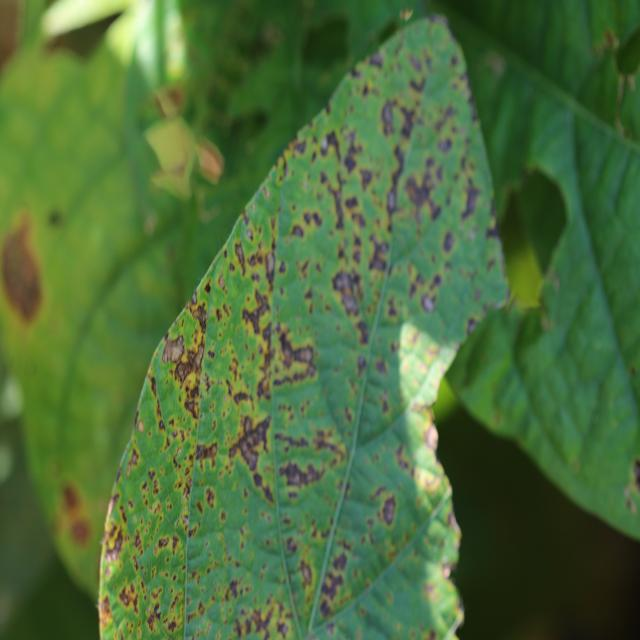Bacterial_Blight: (1, 216, 43, 324), (323, 260, 387, 329), (164, 316, 207, 409), (228, 409, 282, 481), (232, 15, 282, 68), (225, 108, 272, 156), (276, 325, 316, 373), (380, 95, 418, 145), (236, 601, 282, 638), (482, 234, 508, 297), (404, 168, 437, 217), (252, 336, 275, 400), (242, 291, 271, 337), (319, 565, 346, 611), (195, 139, 224, 181), (153, 82, 186, 118), (460, 179, 482, 222), (103, 523, 125, 565), (408, 270, 432, 305), (321, 129, 342, 165), (368, 240, 389, 274), (118, 579, 139, 613), (484, 50, 506, 76), (343, 194, 363, 222), (191, 301, 208, 332), (380, 495, 396, 526), (146, 600, 162, 631), (234, 239, 247, 275), (63, 484, 80, 511), (424, 422, 439, 451), (126, 442, 140, 473), (71, 520, 89, 544), (302, 209, 322, 230), (298, 559, 313, 587), (331, 549, 349, 572), (408, 71, 426, 94), (358, 166, 374, 190), (143, 211, 158, 235), (368, 49, 385, 70), (100, 595, 112, 623), (265, 251, 275, 284), (486, 219, 501, 241), (437, 135, 454, 154), (442, 230, 456, 253), (48, 209, 63, 227), (227, 579, 240, 599), (233, 391, 250, 406), (375, 357, 388, 376), (356, 354, 367, 376), (205, 487, 216, 508), (133, 530, 143, 553), (466, 317, 478, 336), (290, 224, 304, 239), (387, 190, 397, 210), (148, 468, 158, 487), (149, 375, 157, 398), (157, 536, 170, 549), (441, 563, 451, 578), (218, 273, 226, 291), (167, 619, 177, 632), (172, 454, 180, 469), (245, 229, 254, 242), (191, 289, 198, 305), (182, 486, 189, 501), (138, 419, 145, 433), (159, 420, 165, 430), (176, 446, 182, 456), (172, 429, 178, 438)
Soybean: (100, 16, 508, 640)
